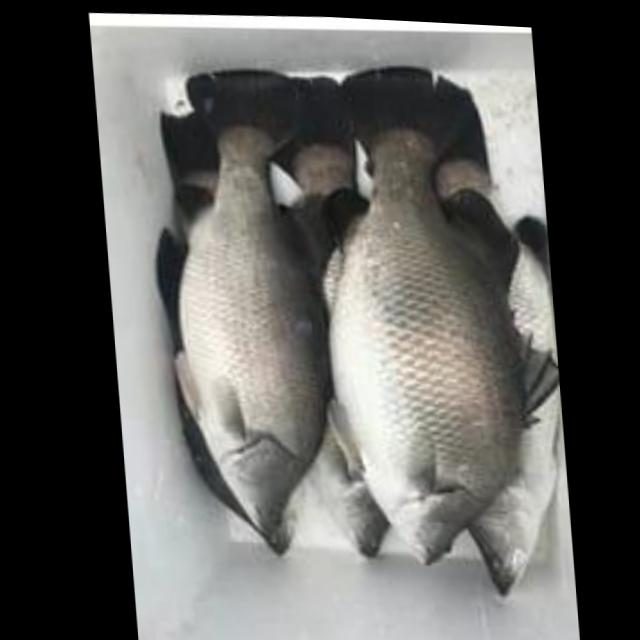Seabass: (302, 59, 574, 578), (157, 62, 344, 545)
